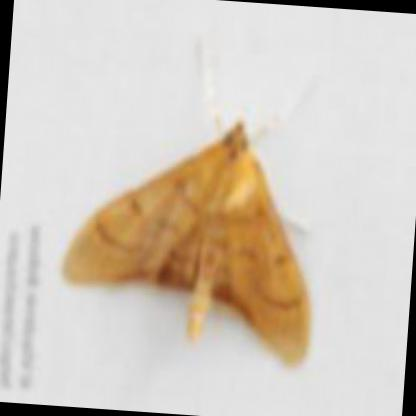Leaf Webber: (57, 115, 315, 370)
